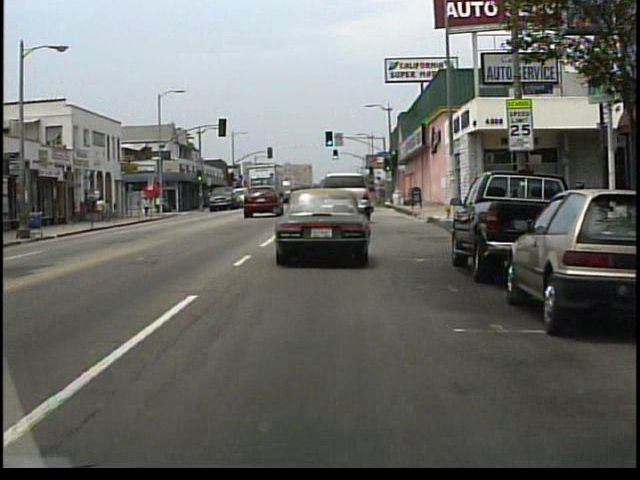person: (97, 196, 107, 223), (104, 199, 112, 222), (143, 196, 151, 217)
